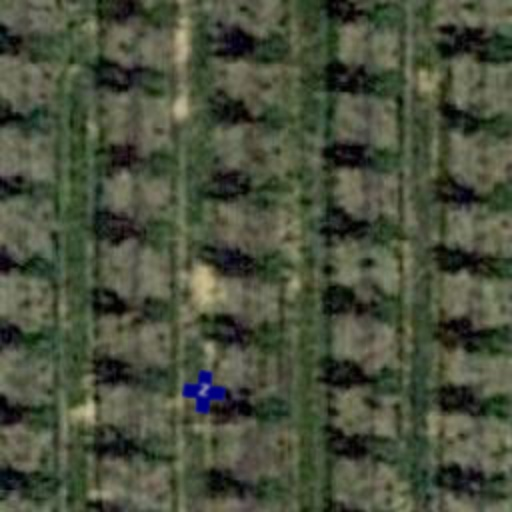cross: (180, 368, 228, 416)
